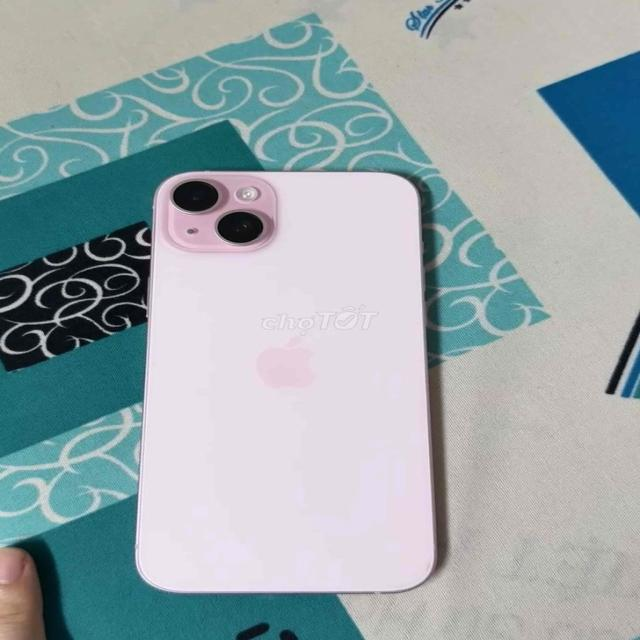gen_15: (130, 159, 444, 610)
